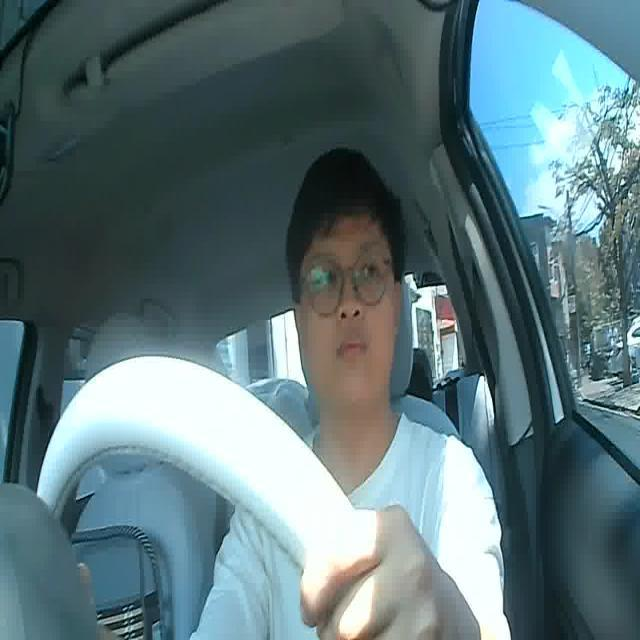Attentive: (280, 146, 405, 396)
Eye-Open: (358, 261, 382, 284), (312, 266, 336, 288)
Normal: (337, 332, 367, 364)
